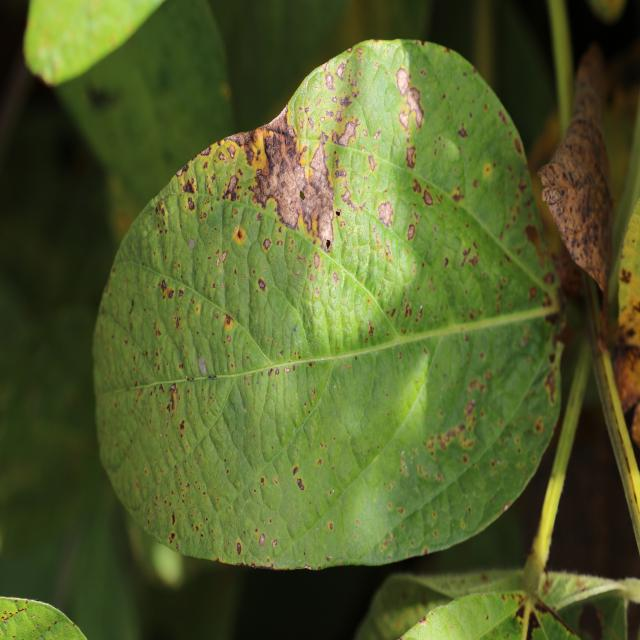Bacterial_Blight: (434, 419, 470, 452), (335, 119, 360, 146), (220, 308, 239, 337), (543, 368, 557, 403), (377, 200, 394, 228), (524, 224, 541, 251), (395, 67, 411, 95), (460, 246, 479, 269), (222, 174, 239, 198), (405, 146, 417, 168), (233, 226, 246, 244), (399, 110, 410, 131), (422, 187, 434, 206), (464, 400, 476, 419), (323, 72, 335, 91), (451, 185, 464, 202), (182, 178, 195, 194), (155, 201, 166, 219), (399, 453, 408, 475), (542, 271, 555, 286), (217, 250, 229, 265), (368, 154, 378, 172), (534, 417, 544, 434), (198, 357, 207, 375), (528, 286, 538, 301), (458, 123, 468, 138), (407, 224, 416, 240), (173, 314, 182, 329), (227, 144, 236, 159), (404, 304, 412, 319), (296, 477, 305, 490), (187, 197, 195, 211), (313, 252, 320, 268), (484, 163, 492, 176), (263, 238, 271, 251), (258, 279, 266, 291), (188, 238, 196, 250), (368, 322, 374, 337), (166, 288, 174, 299), (169, 531, 176, 543), (299, 189, 306, 201), (236, 542, 242, 555), (259, 533, 265, 546), (179, 419, 185, 431), (171, 512, 176, 526), (327, 520, 333, 531), (443, 257, 449, 268), (292, 466, 299, 475), (208, 373, 217, 380), (284, 366, 291, 374), (178, 289, 184, 298), (335, 209, 341, 218), (292, 325, 298, 334), (303, 564, 312, 570), (260, 476, 265, 486), (326, 239, 331, 249), (272, 539, 277, 548), (268, 368, 273, 377), (186, 377, 195, 382), (355, 519, 360, 527), (329, 489, 334, 495)
Soybean: (92, 40, 571, 576)
